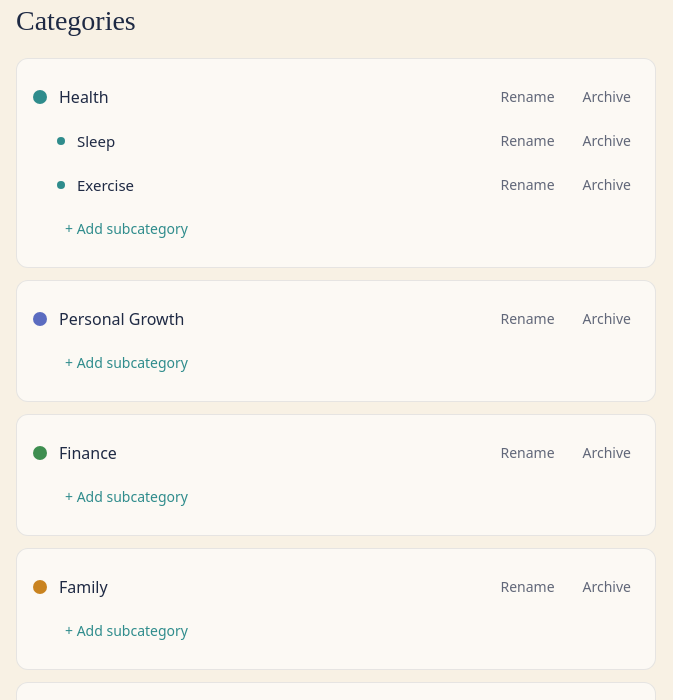
Test: CategoriesScreen subcategories › rejects a case-insensitive duplicate of an active sibling when adding a sub
Click the button "+ Add subcategory" below "Health": (126, 229) [57,207,196,251]
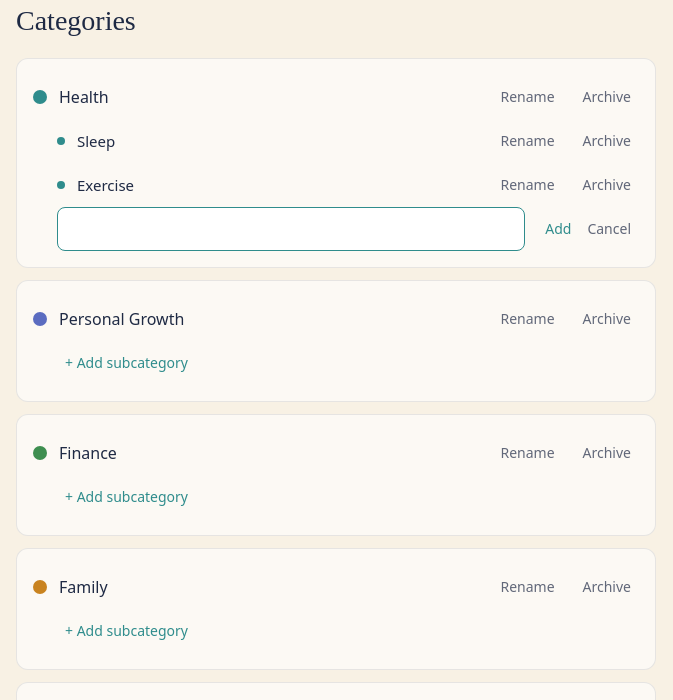
In the field named "New subcategory of Health": (291, 229) [57,207,525,251], type " SLEEP "
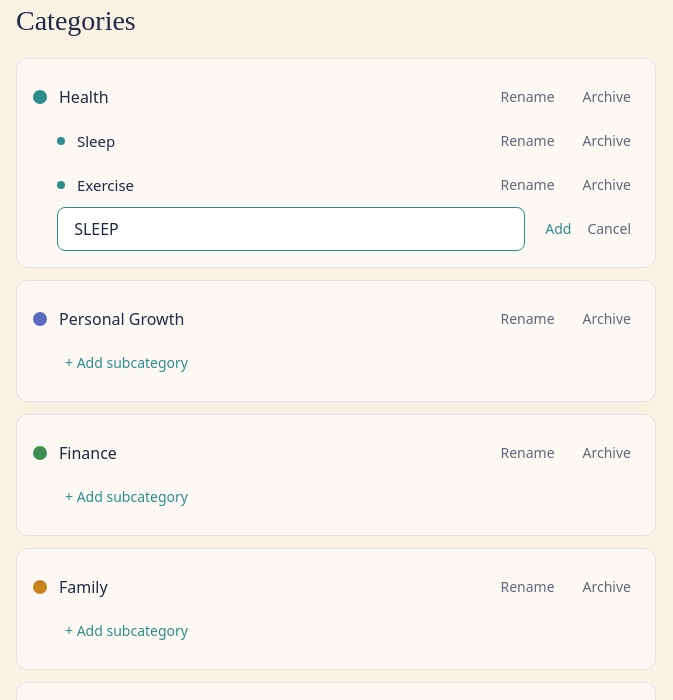
Click the button "Add": (558, 229) [537,207,579,251]
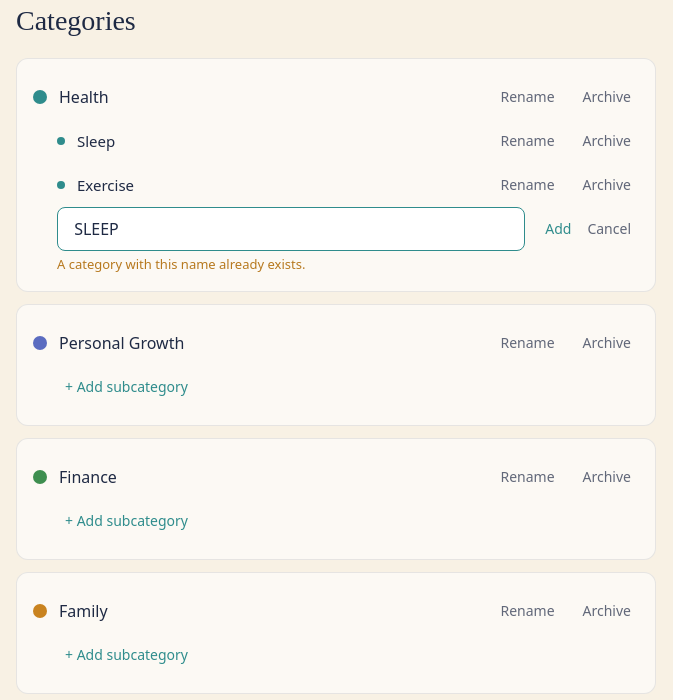
Check: the text "Sleep" is shown once, box [77,131,115,151]
Check: the message reads "A category with this name already exists.", box [57,255,305,273]
